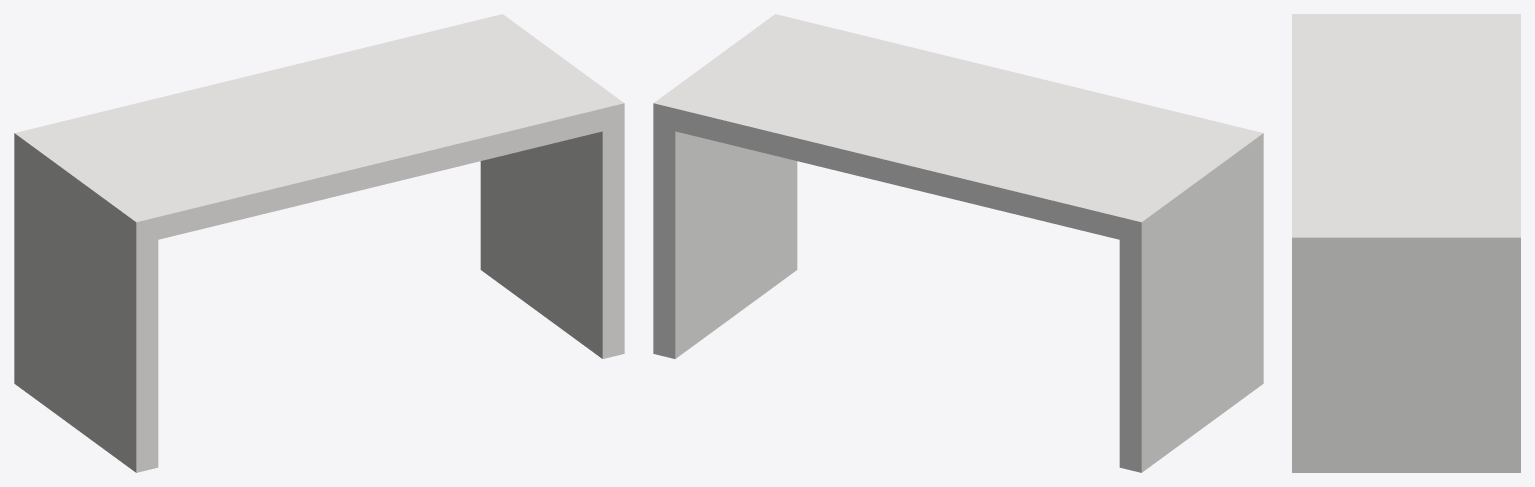
Rendered from Table_13.fbx.
3 views of the same model, side by side, from view 1: azimuth 30°, elevation 25°; view 2: azimuth 150°, elevation 25°; view 3: azimuth 270°, elevation 25° (orthographic). The views are drawn at different scales.
Visible parts, largest first — view 1: Table_13; view 2: Table_13; view 3: Table_13.
Boxes of the visible parts, box(x1,y1,x2,y2) form: Table_13: box(14, 14, 624, 472); Table_13: box(653, 14, 1263, 472); Table_13: box(1292, 14, 1520, 472).
Size of the model in its own units: 157 by 67.69 by 76.8.
